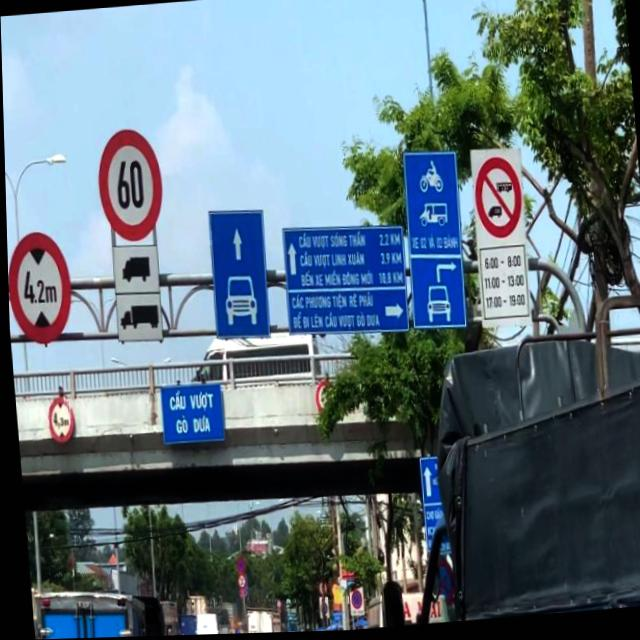Cam dung xe va do xe: (425, 560, 454, 614), (346, 592, 359, 612), (233, 558, 242, 575)
Han che chieu cao: (5, 229, 74, 346), (45, 397, 73, 445)
Toc do toi da cho phep: (94, 128, 166, 244)
Vong chuong ngai vat sang trai: (231, 629, 236, 635)
